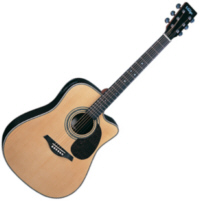guitar: (1, 1, 198, 201)
